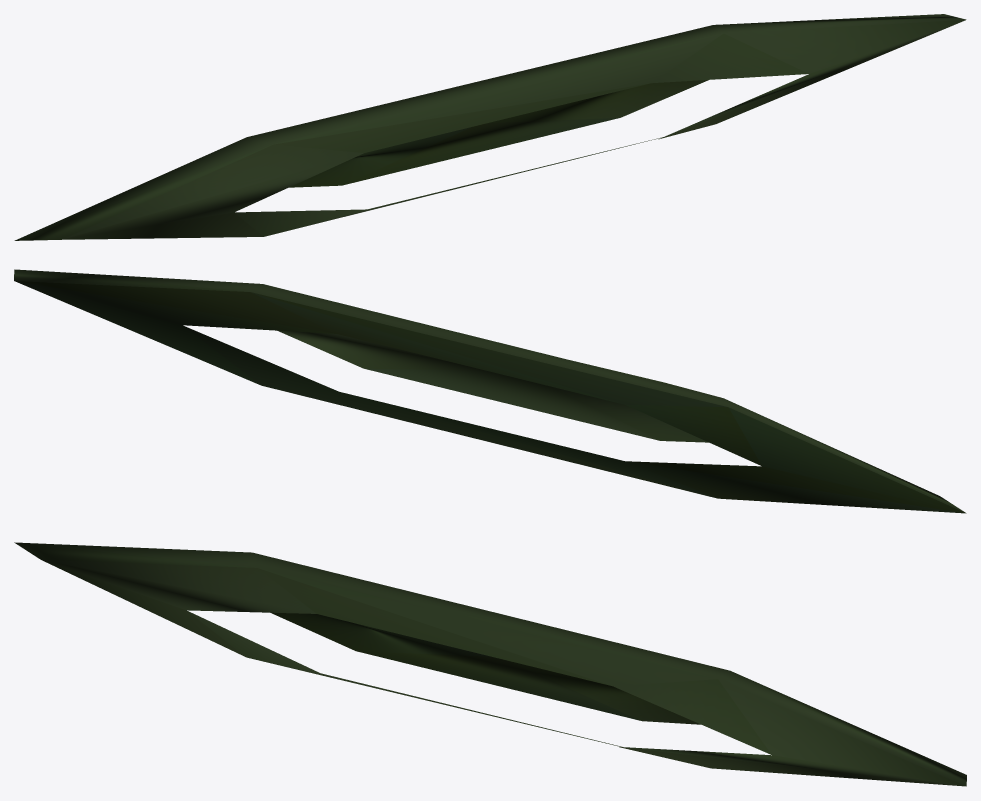
File: dead_log.glb
The picture shows the model from 3 angles, top to bottom: view 1: azimuth 30°, elevation 25°; view 2: azimuth 150°, elevation 25°; view 3: azimuth 330°, elevation 25°; orthographic projection. The views are drawn at different scales.
Size of the model in its own units: 1 by 0.0941 by 0.0682.
